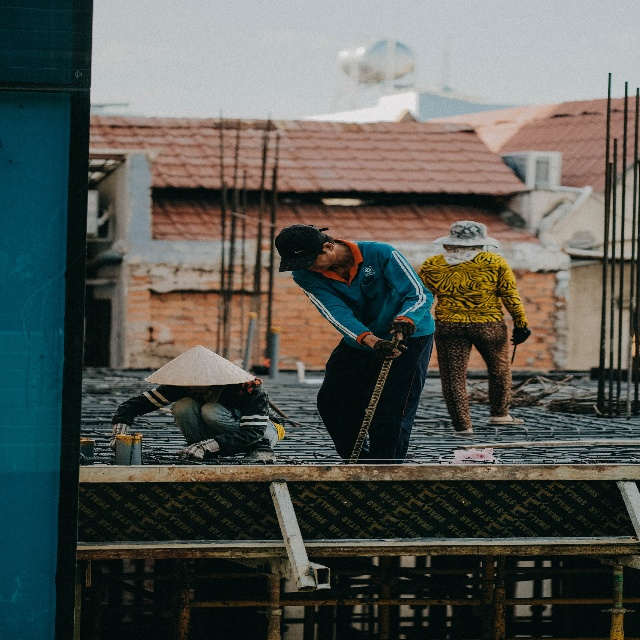Guantes: (175, 438, 220, 459), (372, 337, 408, 362), (388, 320, 416, 342), (109, 424, 130, 450), (510, 321, 530, 347)
